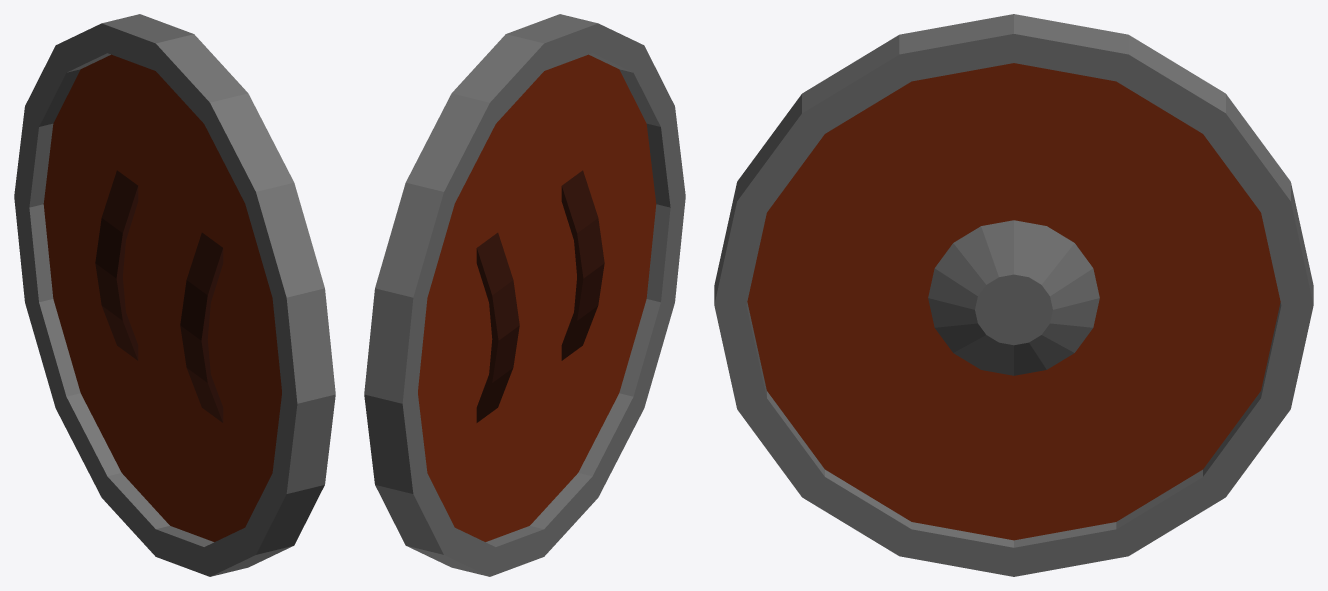
Rendered from Shield.obj.
The picture shows the model from 3 angles, left to right: view 1: azimuth 30°, elevation 25°; view 2: azimuth 150°, elevation 25°; view 3: azimuth 270°, elevation 25°; orthographic projection. The views are drawn at different scales.
Visible parts, largest first — view 1: Shield_Cylinder.001; view 2: Shield_Cylinder.001; view 3: Shield_Cylinder.001.
Boxes of the visible parts, bbox=[...] form: Shield_Cylinder.001: bbox=[14, 14, 335, 576]; Shield_Cylinder.001: bbox=[364, 14, 685, 576]; Shield_Cylinder.001: bbox=[714, 14, 1313, 576].
Size of the model in its own units: 0.1112 by 1 by 1.
